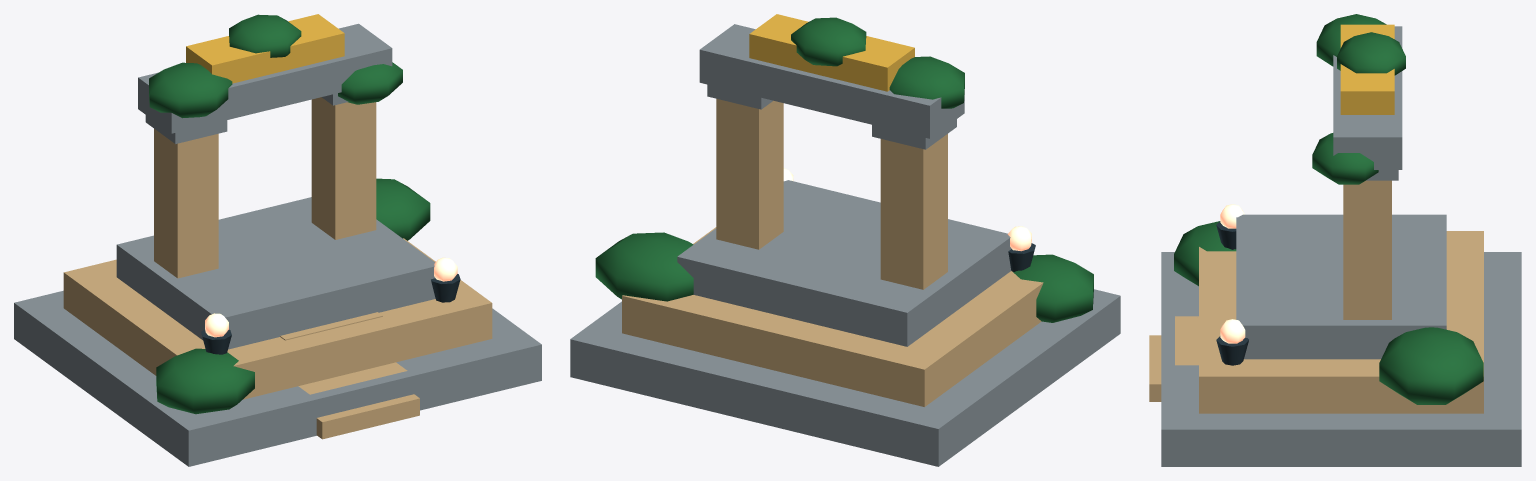
Rendered from temple-ruins.glb.
3 views of the same model, side by side, from view 1: azimuth 30°, elevation 25°; view 2: azimuth 150°, elevation 25°; view 3: azimuth 270°, elevation 25° (orthographic). The views are drawn at different scales.
Visible parts, largest first — view 1: Mesh_stoneGray, Mesh_sandStone, Mesh_leafDark, Mesh_gold, Mesh_iron, Mesh_glowCoral; view 2: Mesh_stoneGray, Mesh_sandStone, Mesh_leafDark, Mesh_gold, Mesh_glowCoral; view 3: Mesh_stoneGray, Mesh_sandStone, Mesh_leafDark, Mesh_gold, Mesh_iron, Mesh_glowCoral.
Part boxes in pixels (x1,y1,x2,y2): Mesh_stoneGray: (14,23,541,466); Mesh_sandStone: (63,97,492,439); Mesh_leafDark: (149,14,430,414); Mesh_gold: (186,14,344,83); Mesh_iron: (201,274,460,354); Mesh_glowCoral: (205,257,457,337); Mesh_stoneGray: (570,24,1120,466); Mesh_sandStone: (622,98,1043,406); Mesh_leafDark: (595,17,1093,322); Mesh_gold: (749,14,914,91); Mesh_glowCoral: (783,168,1031,251); Mesh_stoneGray: (1161,26,1521,466); Mesh_sandStone: (1149,180,1483,413); Mesh_leafDark: (1174,14,1483,404); Mesh_gold: (1340,24,1394,114); Mesh_iron: (1216,221,1248,365); Mesh_glowCoral: (1220,204,1245,343).
Size of the model in its own units: 5.77 by 4.99 by 4.96.
